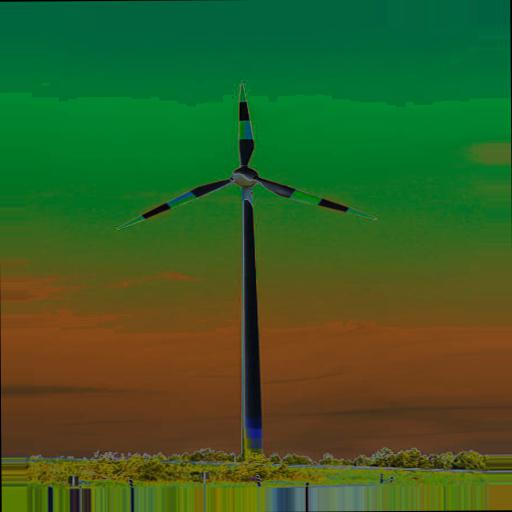wind turbine: (113, 81, 380, 461)
